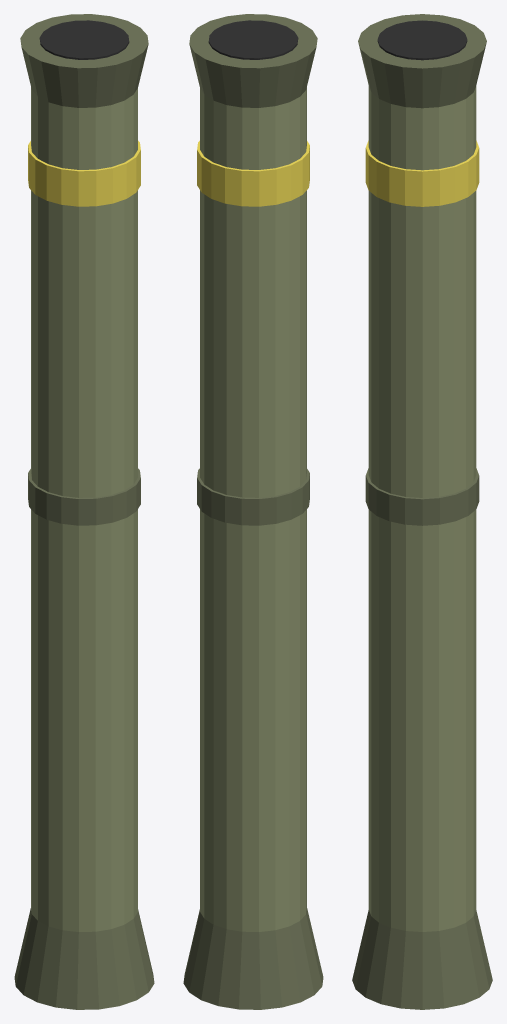
File: launcher.glb
3 renders of one model, left to right at view 1: azimuth 30°, elevation 25°; view 2: azimuth 150°, elevation 25°; view 3: azimuth 270°, elevation 25°, orthographic.
Parts seen in each view (by area): view 1: launcher; view 2: launcher; view 3: launcher.
Part boxes in pixels (bbox=[...]): launcher: bbox=[14, 14, 154, 1009]; launcher: bbox=[183, 14, 323, 1009]; launcher: bbox=[352, 14, 492, 1009].
Size of the model in its own units: 0.144 by 1.06 by 0.144.
